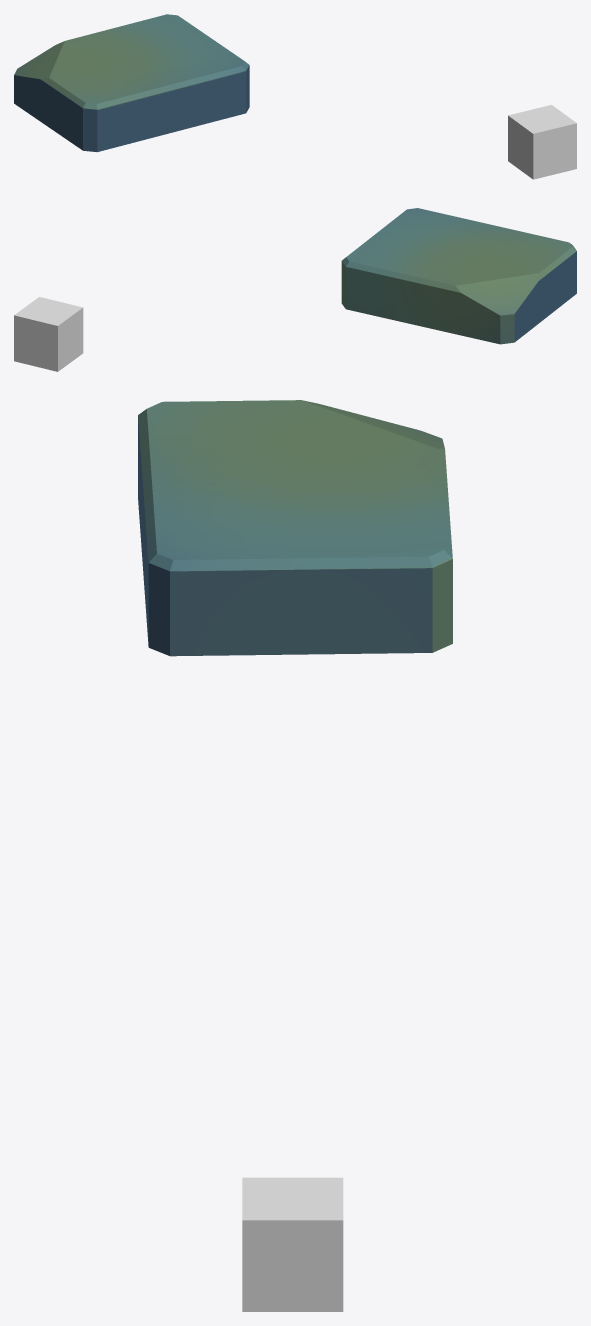
The model's file is award-floor012.fbx.
3 views of the same model, one above another, from view 1: azimuth 30°, elevation 25°; view 2: azimuth 150°, elevation 25°; view 3: azimuth 270°, elevation 25° (orthographic). The views are drawn at different scales.
Visible parts, largest first — view 1: Cube.069, award-floor012; view 2: Cube.069, award-floor012; view 3: Cube.069, award-floor012.
Boxes of the visible parts, x1,y1,x2,y2 form: Cube.069: [14, 14, 249, 152]; award-floor012: [508, 105, 576, 179]; Cube.069: [341, 208, 576, 344]; award-floor012: [14, 297, 83, 371]; Cube.069: [138, 400, 452, 656]; award-floor012: [242, 1177, 343, 1311].
Size of the model in its own units: 709 by 269 by 186.
